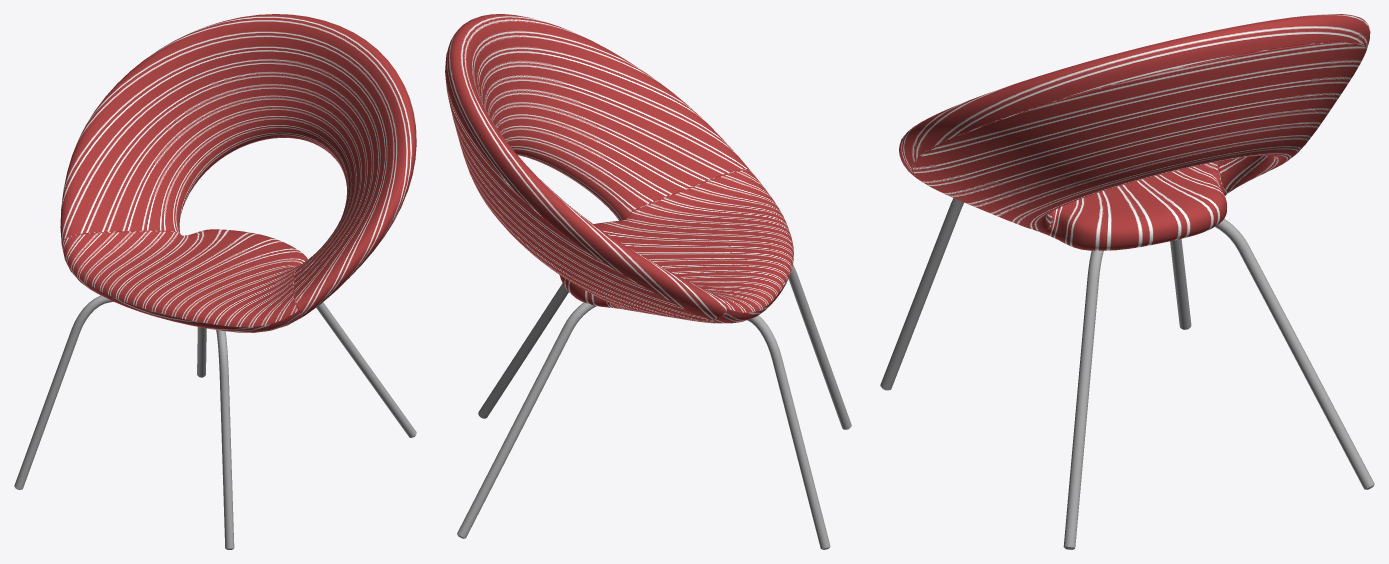
Rendered from ring_chair.glb.
3 renders of one model, left to right at view 1: azimuth 30°, elevation 25°; view 2: azimuth 150°, elevation 25°; view 3: azimuth 270°, elevation 25°, orthographic. The views are drawn at different scales.
Visible parts, largest first — view 1: seat, legs; view 2: seat, legs; view 3: seat, legs.
Part boxes in pixels (left/top/right/bottom): seat: left=60, top=14, right=416, bottom=332; legs: left=14, top=295, right=416, bottom=549; seat: left=445, top=14, right=793, bottom=323; legs: left=457, top=264, right=851, bottom=549; seat: left=899, top=14, right=1370, bottom=250; legs: left=880, top=198, right=1374, bottom=549.
Size of the model in its own units: 2.02 by 2.07 by 1.86.
Materials: 2 (1 with a texture image).
